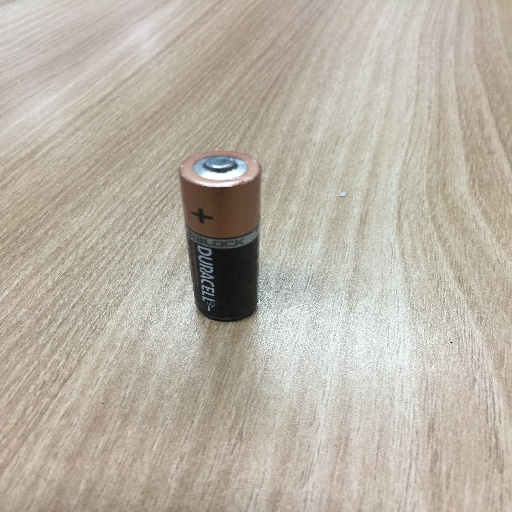Battery_0: (171, 140, 268, 328)
